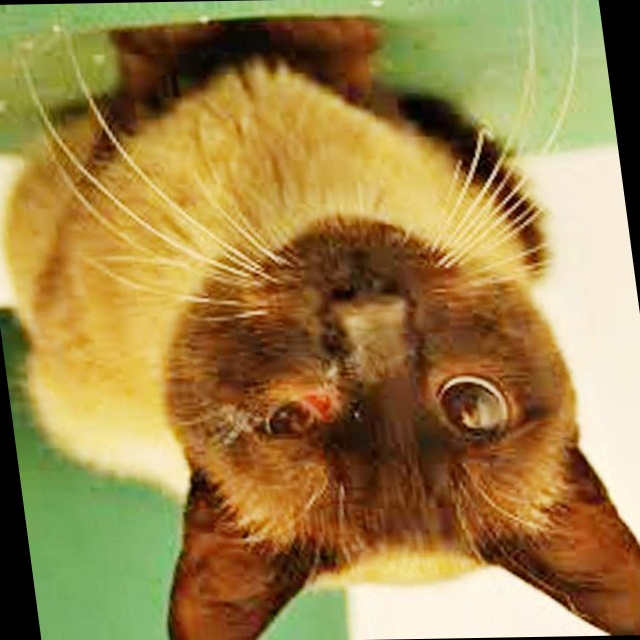eye_infection: (265, 389, 331, 437)
